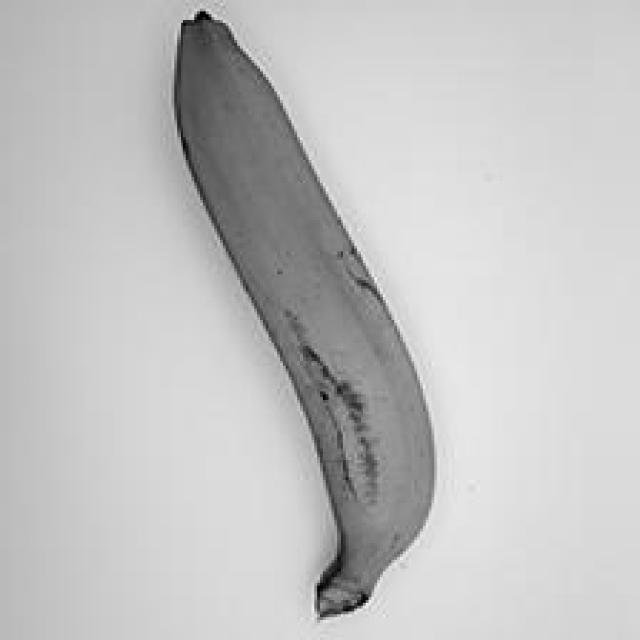Raw: (135, 0, 464, 640)
